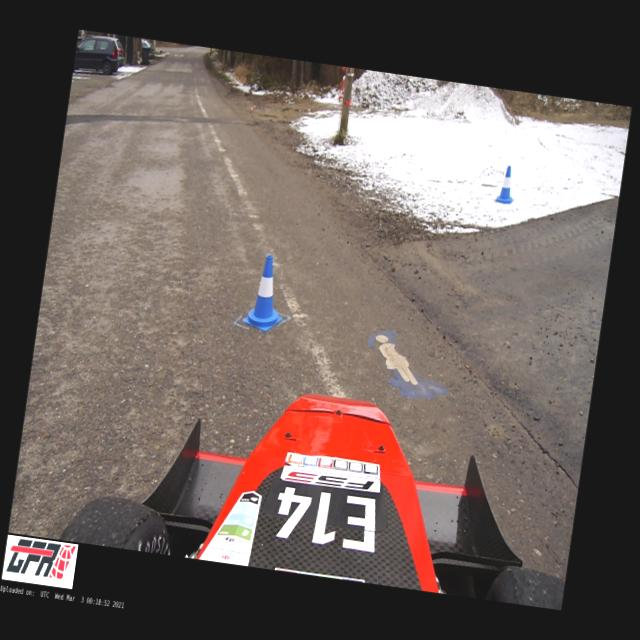blue_cone: (242, 252, 292, 333), (496, 165, 518, 204)
